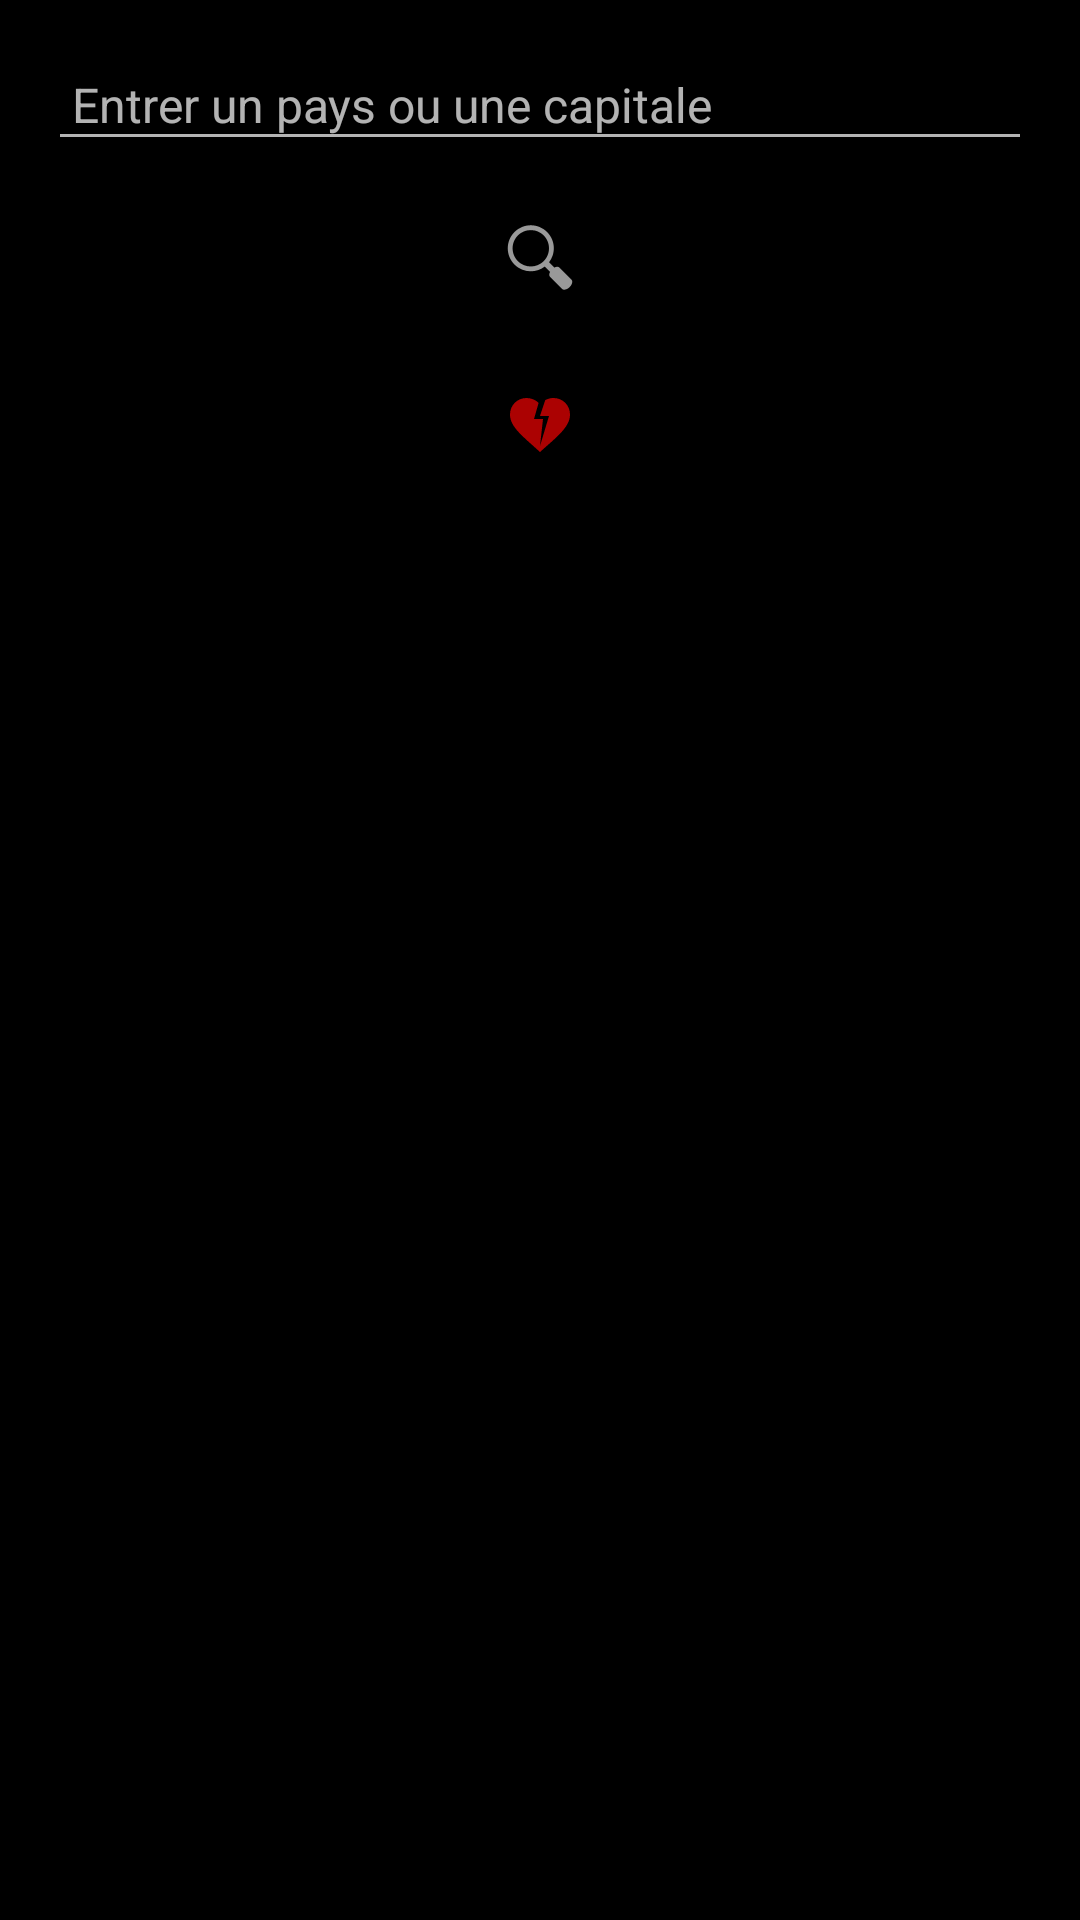

Point at icon controls on the screen. Image size 1080px×1920px, points as point (x, y).
search: point (540, 257)
